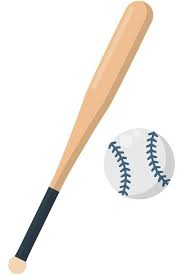baseball bat: (4, 1, 153, 274)
